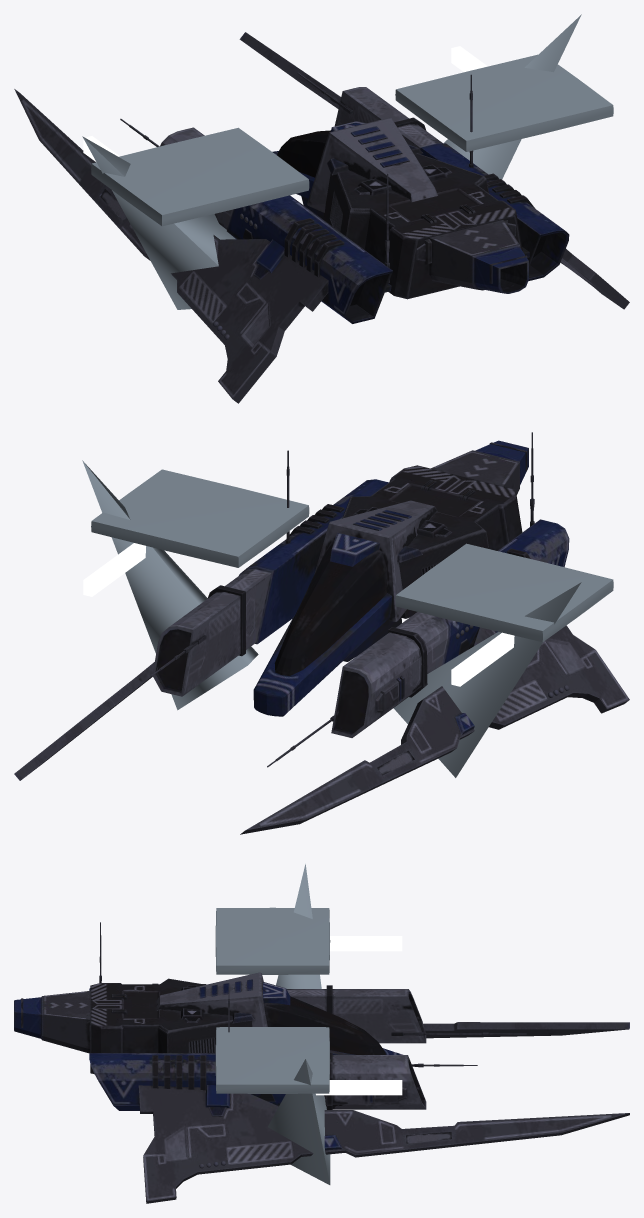
Rendered from enemy_stealth.glb.
The picture shows the model from 3 angles, top to bottom: view 1: azimuth 30°, elevation 25°; view 2: azimuth 150°, elevation 25°; view 3: azimuth 270°, elevation 25°; orthographic projection. The views are drawn at different scales.
Visible parts, largest first — view 1: enemy_stealth; view 2: enemy_stealth; view 3: enemy_stealth.
Part boxes in pixels (box(x1,y1,x2,y2)): enemy_stealth: box(14, 14, 629, 403); enemy_stealth: box(14, 432, 629, 834); enemy_stealth: box(14, 864, 629, 1203).
Bounding box in the file's own units: 1.41 × 0.608 × 1.88.
3 materials, 1 textured.
